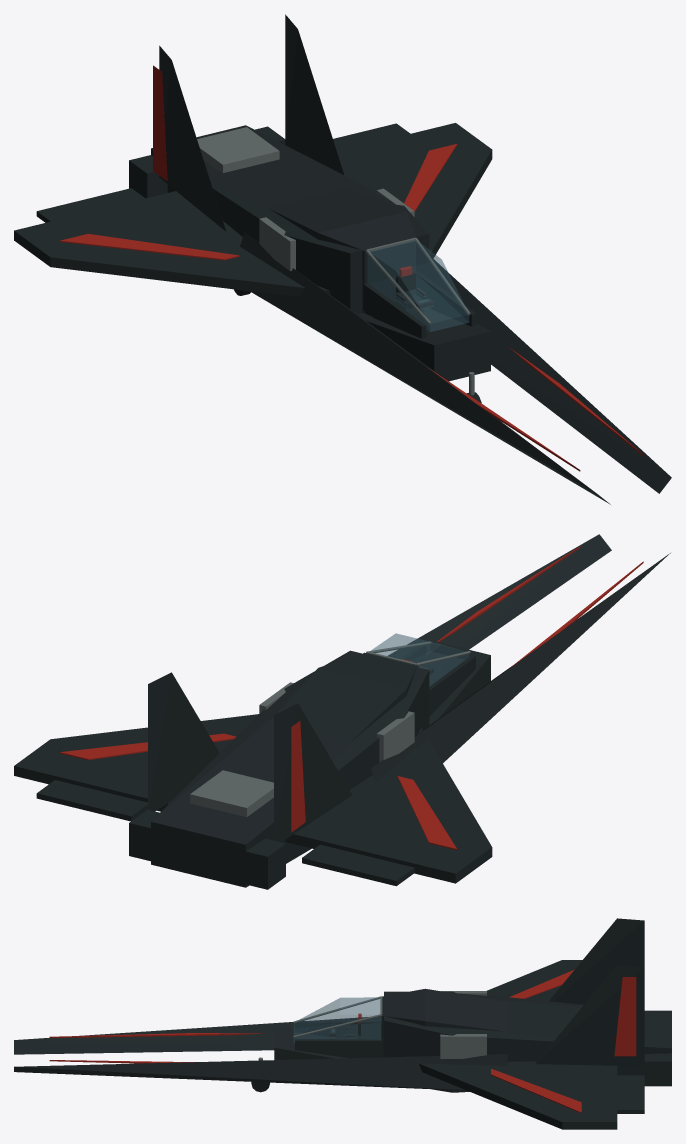
3 renders of one model, top to bottom at view 1: azimuth 30°, elevation 25°; view 2: azimuth 150°, elevation 25°; view 3: azimuth 270°, elevation 25°, orthographic. The views are drawn at different scales.
Visible parts, largest first — view 1: mothership-fighter-painted, breakaway-fighter-fin--1-painted, mothership-canopy-glazing, breakaway-fighter-fin-1-painted, flap-left-painted, flap-right-painted, crew-chair-pilot-painted, mothership-canopy-painted; view 2: mothership-fighter-painted, breakaway-fighter-fin--1-painted, breakaway-fighter-fin-1-painted, flap-left-painted, flap-right-painted, mothership-canopy-glazing, mothership-canopy-painted; view 3: mothership-fighter-painted, breakaway-fighter-fin-1-painted, breakaway-fighter-fin--1-painted, mothership-canopy-glazing, flap-right-painted, mothership-canopy-painted.
Boxes of the visible parts, x1,y1,x2,y2 form: mothership-fighter-painted: (14, 123, 671, 504); breakaway-fighter-fin--1-painted: (153, 45, 226, 231); mothership-canopy-glazing: (367, 240, 469, 331); breakaway-fighter-fin-1-painted: (285, 14, 344, 174); flap-left-painted: (36, 188, 145, 222); flap-right-painted: (333, 123, 410, 151); crew-chair-pilot-painted: (395, 266, 433, 311); mothership-canopy-painted: (366, 237, 470, 324); mothership-fighter-painted: (14, 534, 670, 889); breakaway-fighter-fin--1-painted: (274, 703, 352, 842); breakaway-fighter-fin-1-painted: (148, 672, 219, 811); flap-left-painted: (302, 844, 414, 886); flap-right-painted: (36, 780, 147, 821); mothership-canopy-glazing: (370, 633, 469, 686); mothership-canopy-painted: (366, 641, 470, 665); mothership-fighter-painted: (14, 960, 671, 1129); breakaway-fighter-fin-1-painted: (535, 964, 644, 1066); breakaway-fighter-fin--1-painted: (549, 918, 644, 1004); mothership-canopy-glazing: (293, 997, 381, 1043); flap-right-painted: (617, 1075, 644, 1113); mothership-canopy-painted: (293, 996, 382, 1037).
Size of the model in its own units: 73.68 by 31.58 by 126.
